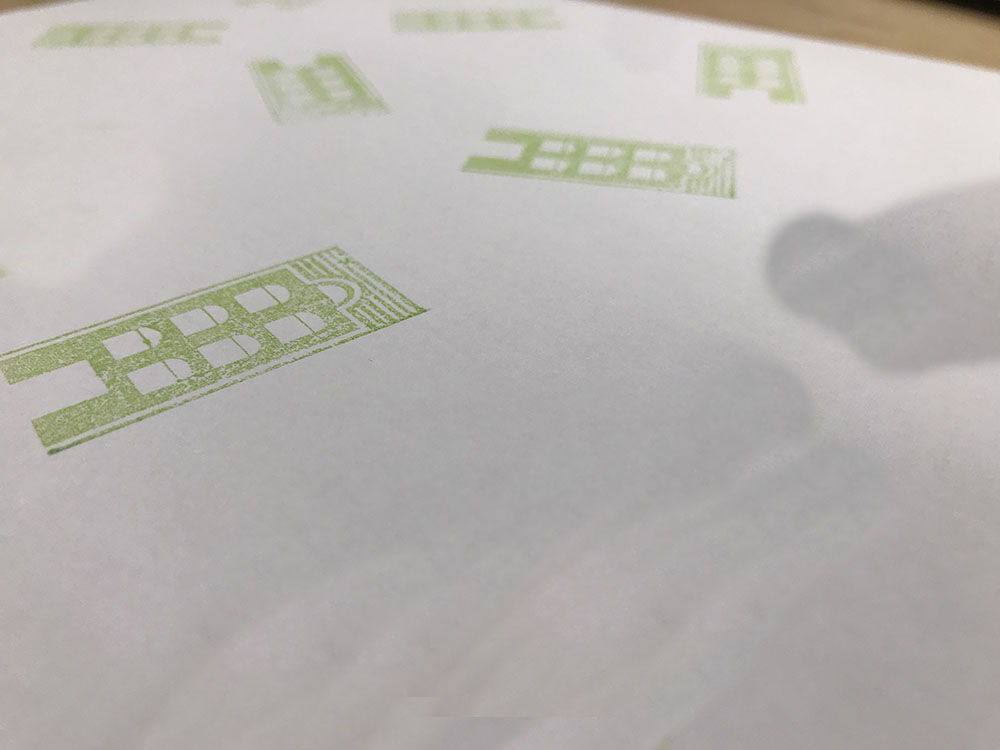build: (1, 195, 446, 493), (451, 115, 750, 214), (237, 46, 412, 144), (677, 34, 818, 119)
